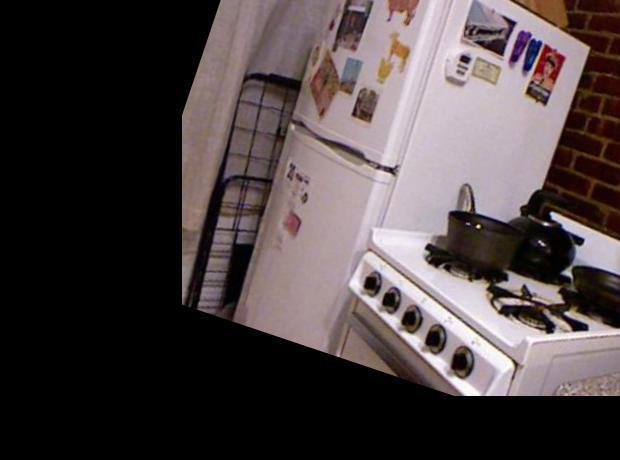Electrodomestico: (211, 0, 601, 399), (332, 168, 620, 459)
